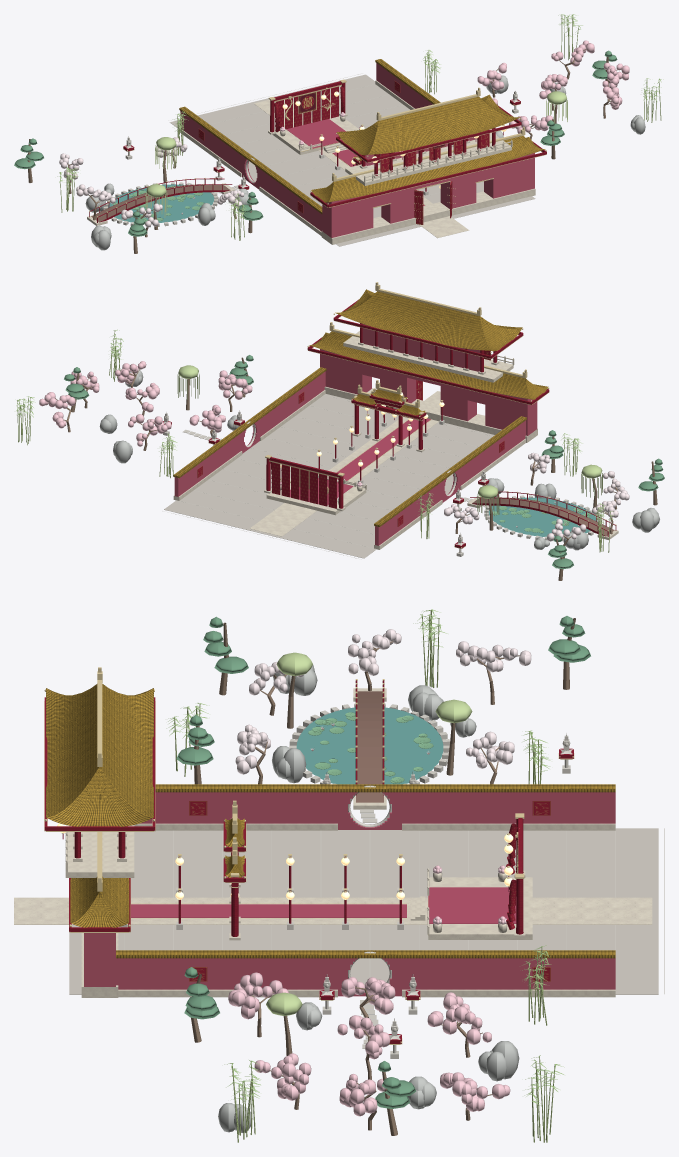
Rendered from compound.glb.
3 views of the same model, one above another, from view 1: azimuth 30°, elevation 25°; view 2: azimuth 150°, elevation 25°; view 3: azimuth 270°, elevation 25° (orthographic). The views are drawn at different scales.
Visible parts, largest first — view 1: imperial_gate, courtyard, walls, garden_east, garden_trees, wedding_stage, garden_west_water, red_bridge, garden_rocks, garden_east_rocks, stone_lanterns, garden_west_plants; view 2: courtyard, imperial_gate, walls, garden_east, garden_trees, wedding_stage, paifang, garden_west_water, red_bridge, garden_rocks, garden_east_rocks, lantern_posts (+2 smaller); view 3: courtyard, walls, imperial_gate, garden_east, garden_trees, wedding_stage, garden_west_water, red_bridge, garden_east_rocks, garden_rocks, paifang, stone_lanterns (+2 smaller).
Part boxes in pixels (x1=…): imperial_gate: x1=310, y1=87, x2=546, y2=244; courtyard: x1=168, y1=73, x2=535, y2=246; walls: x1=179, y1=59, x2=440, y2=235; garden_east: x1=423, y1=14, x2=663, y2=159; garden_trees: x1=14, y1=111, x2=263, y2=253; wedding_stage: x1=268, y1=79, x2=361, y2=154; garden_west_water: x1=103, y1=182, x2=218, y2=227; red_bridge: x1=87, y1=178, x2=234, y2=225; garden_rocks: x1=85, y1=183, x2=249, y2=250; garden_east_rocks: x1=486, y1=72, x2=645, y2=137; stone_lanterns: x1=123, y1=91, x2=520, y2=189; garden_west_plants: x1=112, y1=186, x2=204, y2=222; courtyard: x1=163, y1=391, x2=494, y2=559; imperial_gate: x1=307, y1=282, x2=549, y2=442; walls: x1=173, y1=367, x2=526, y2=549; garden_east: x1=16, y1=329, x2=253, y2=478; garden_trees: x1=417, y1=430, x2=664, y2=580; wedding_stage: x1=264, y1=455, x2=366, y2=515; paifang: x1=351, y1=380, x2=426, y2=452; garden_west_water: x1=484, y1=495, x2=601, y2=541; red_bridge: x1=467, y1=491, x2=618, y2=539; garden_rocks: x1=487, y1=478, x2=659, y2=550; garden_east_rocks: x1=99, y1=369, x2=242, y2=463; lantern_posts: x1=316, y1=390, x2=444, y2=483; courtyard: x1=14, y1=828, x2=664, y2=994; walls: x1=116, y1=784, x2=615, y2=997; imperial_gate: x1=44, y1=667, x2=155, y2=997; garden_east: x1=184, y1=945, x2=564, y2=1142; garden_trees: x1=166, y1=609, x2=590, y2=784; wedding_stage: x1=410, y1=813, x2=532, y2=939; garden_west_water: x1=289, y1=703, x2=449, y2=784; red_bridge: x1=353, y1=679, x2=386, y2=809; garden_east_rocks: x1=218, y1=1002, x2=519, y2=1132; garden_rocks: x1=272, y1=665, x2=476, y2=783; paifang: x1=223, y1=800, x2=246, y2=940; stone_lanterns: x1=319, y1=733, x2=574, y2=1058.
Size of the model in its own units: 91.31 by 19.24 by 53.03.
Materials: 24 (6 with a texture image).
